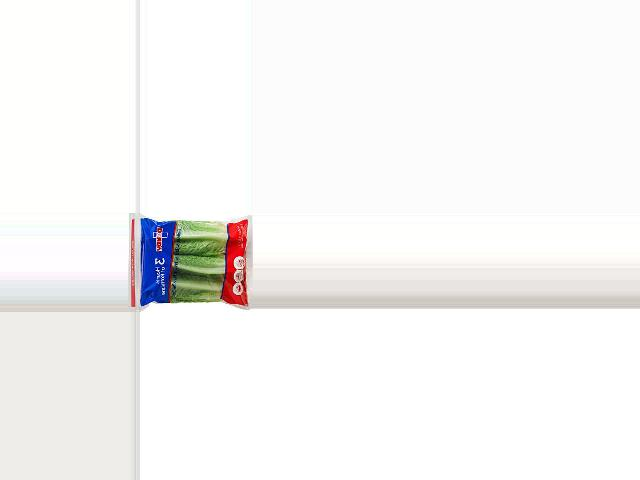lettuce: (137, 217, 252, 307)
